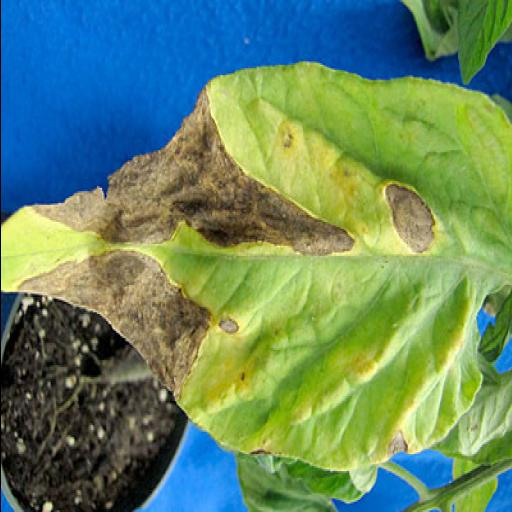Early Blight: (0, 61, 510, 481)
